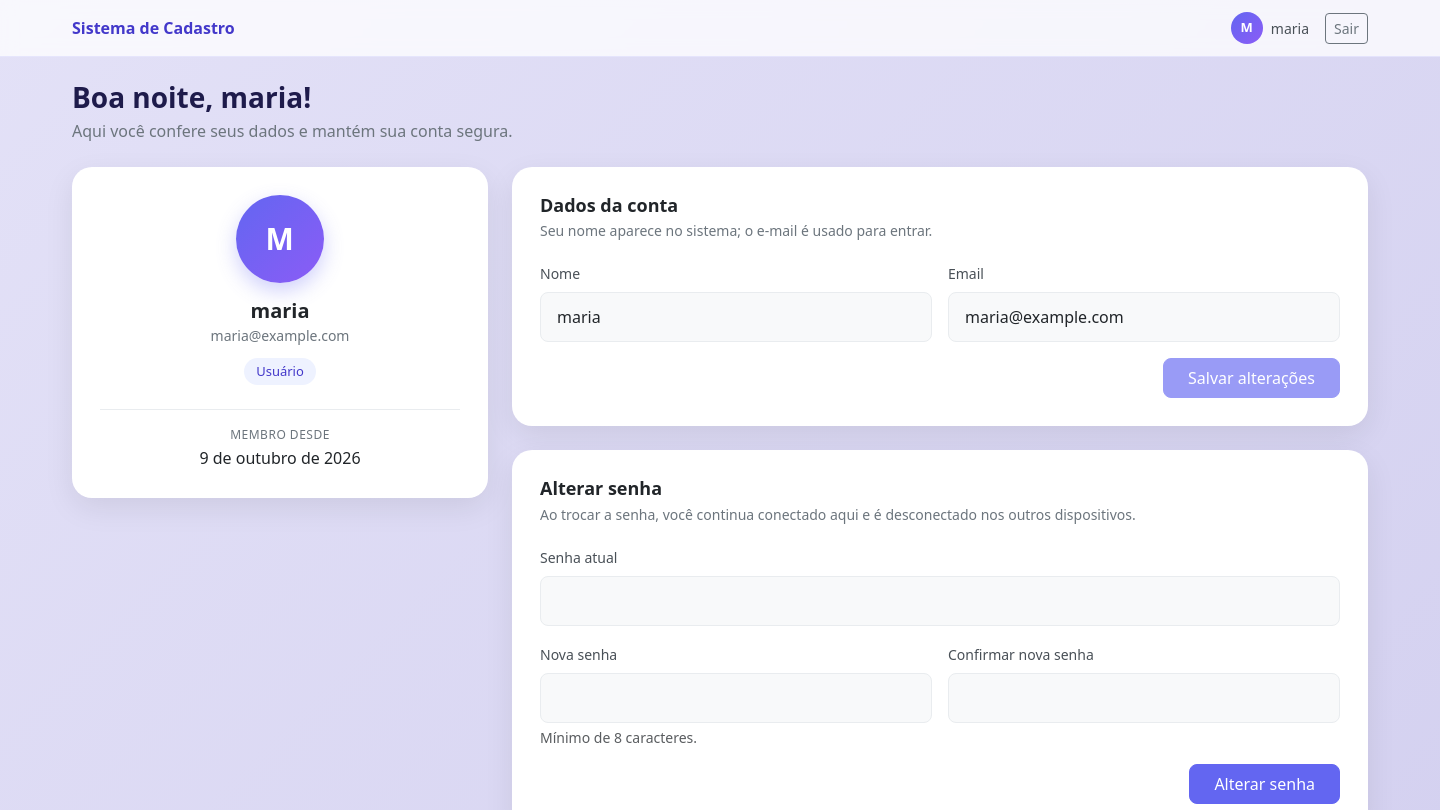
it: home do usuário › só habilita salvar quando algo muda
Expected: the element "Dados da conta" is shown, [512, 167, 1368, 426]
Expected: the button "Salvar alterações" is disabled, [1163, 358, 1340, 398]
Type " Silva" into the field labelled "Nome".
click(736, 317); type(" Silva")  # box [540, 292, 932, 342]
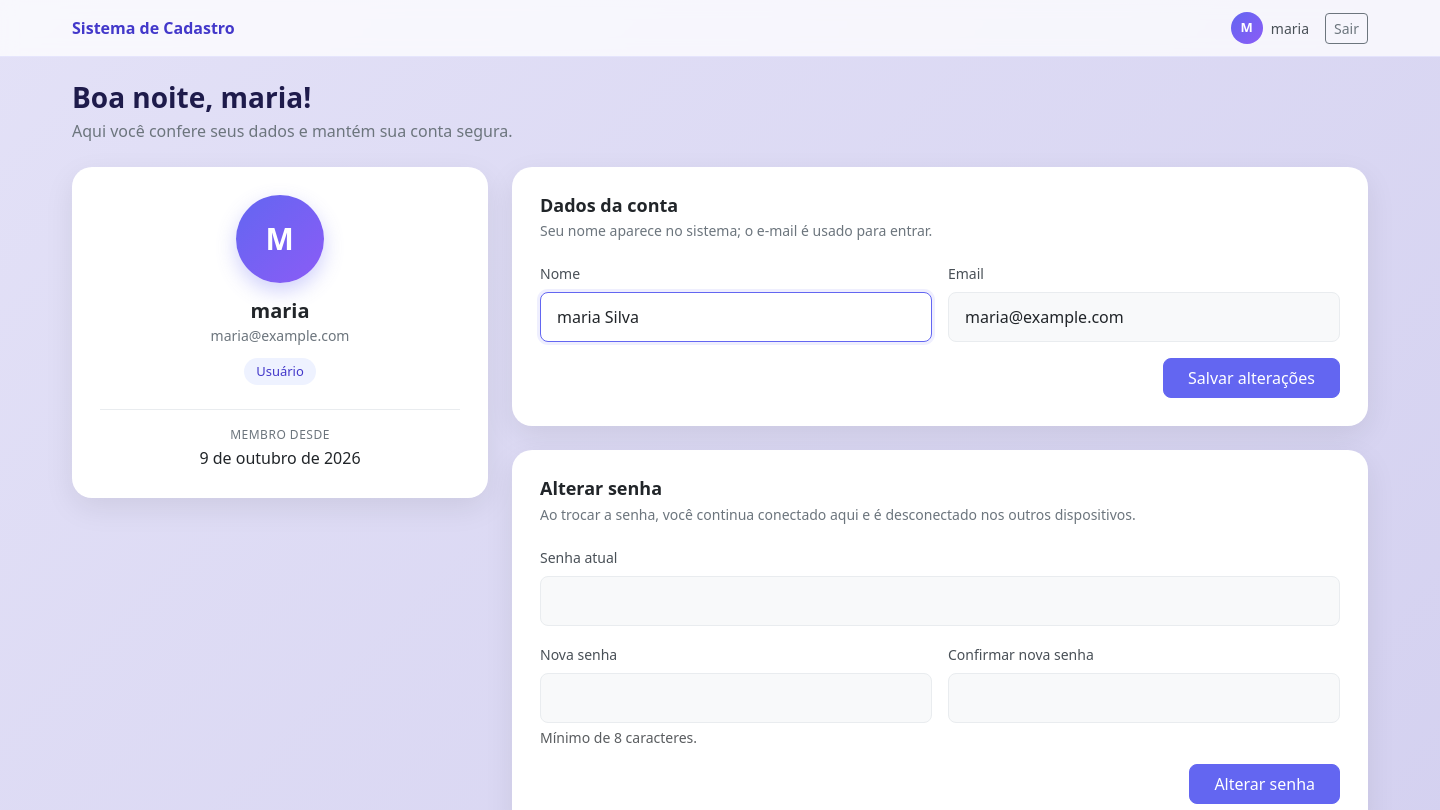
Result: the button "Salvar alterações" is enabled at [1163, 358, 1340, 398]
